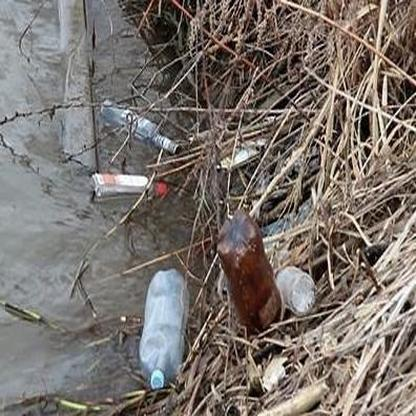plastic bottle: (215, 210, 283, 329), (138, 269, 189, 389), (99, 99, 182, 156), (276, 265, 317, 317), (90, 173, 167, 200)
